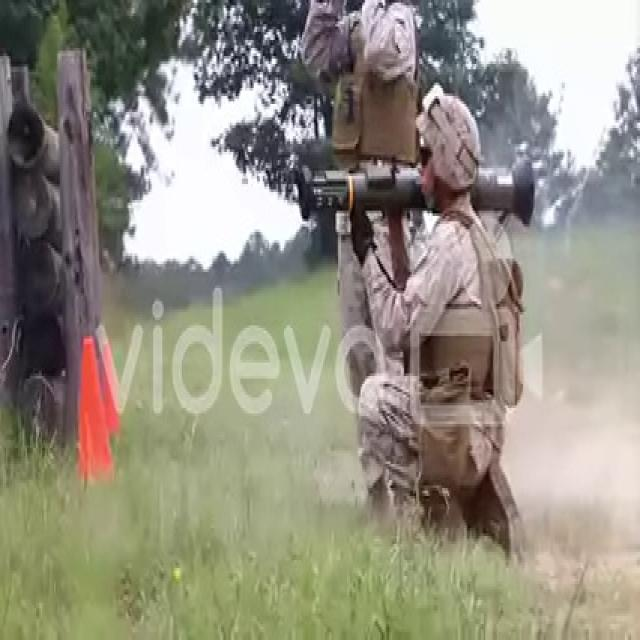bazooka: (293, 146, 541, 235)
